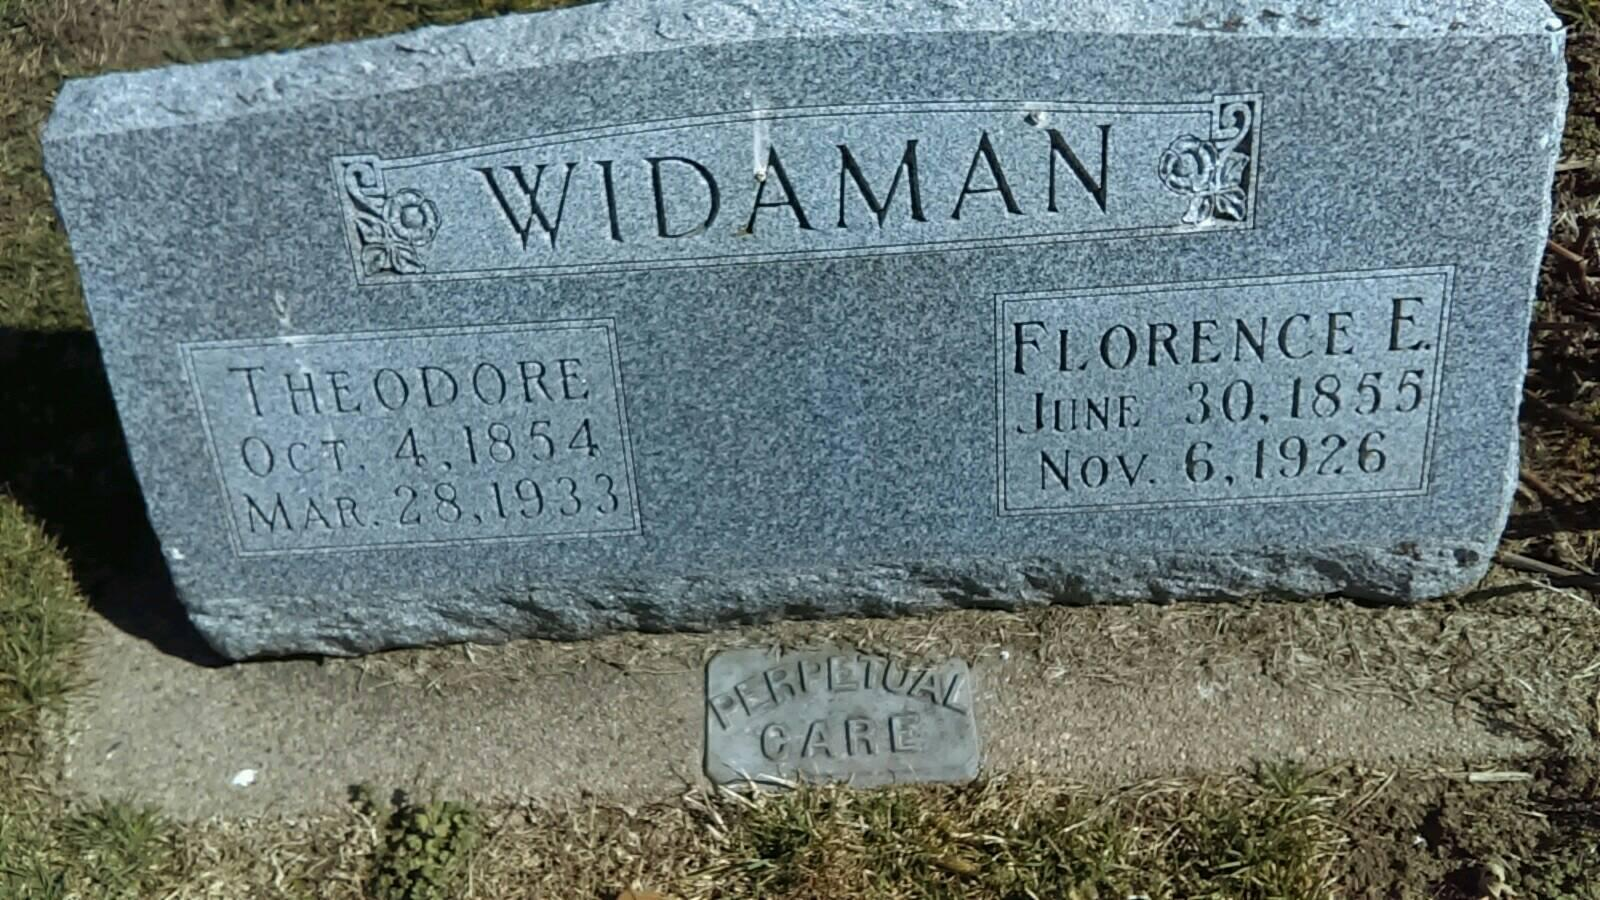upright: (34, 0, 1599, 758)
